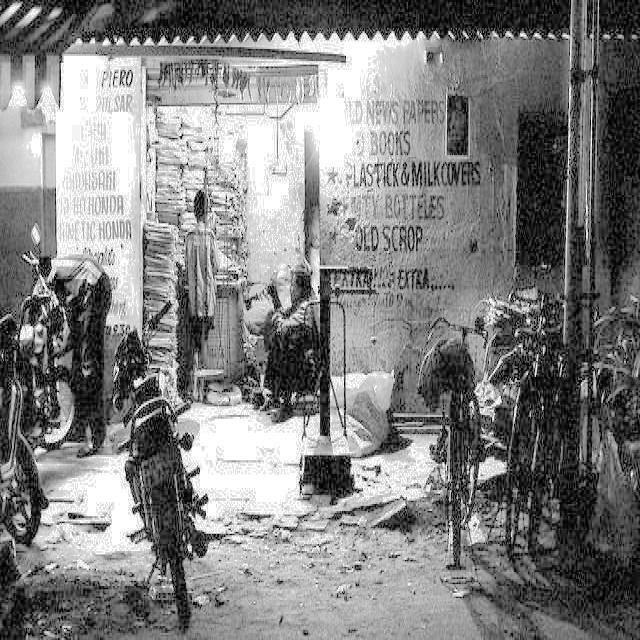Bicycle: (564, 314, 640, 607), (429, 294, 491, 601), (506, 255, 561, 567)
Motorcycle: (120, 313, 220, 617), (0, 237, 63, 563)
Person: (249, 234, 324, 434), (47, 234, 120, 428), (184, 183, 241, 411)
